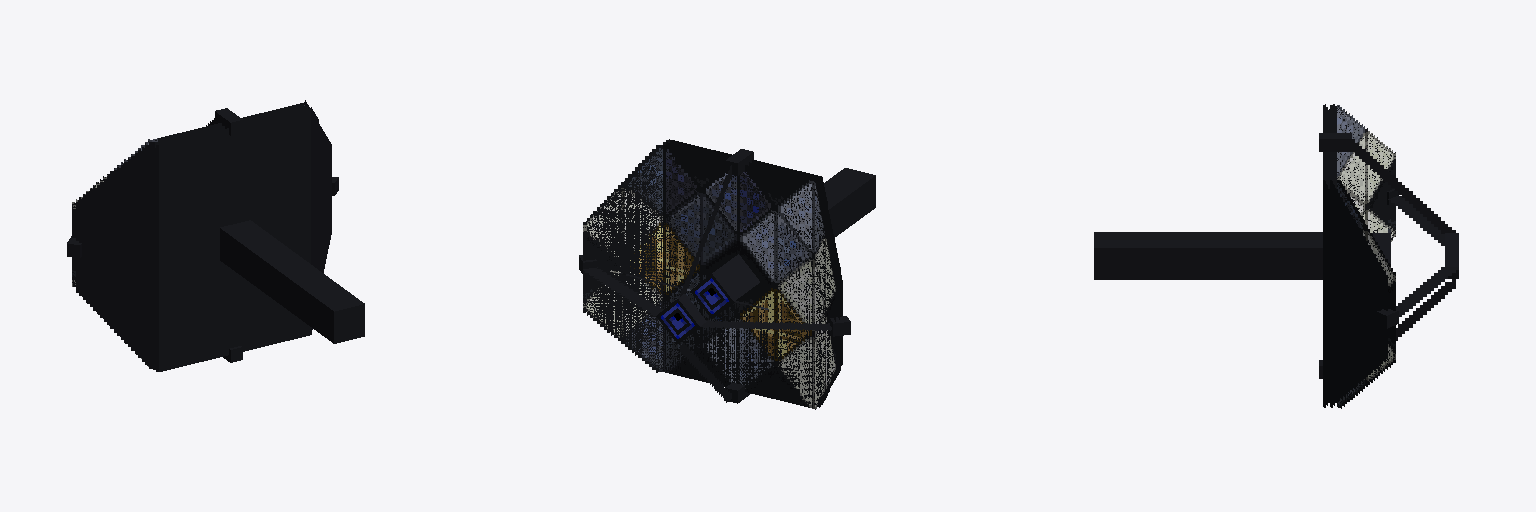
3 renders of one model, left to right at view 1: azimuth 30°, elevation 25°; view 2: azimuth 150°, elevation 25°; view 3: azimuth 270°, elevation 25°, orthographic.
Visible parts, largest first — view 1: cube; view 2: cube; view 3: cube.
Boxes of the visible parts, x1=… form: cube: x1=67, y1=100, x2=364, y2=371; cube: x1=579, y1=139, x2=875, y2=409; cube: x1=1094, y1=104, x2=1458, y2=408.
Size of the model in its own units: 5.48 by 4.62 by 6.5.
1 materials, 1 textured.